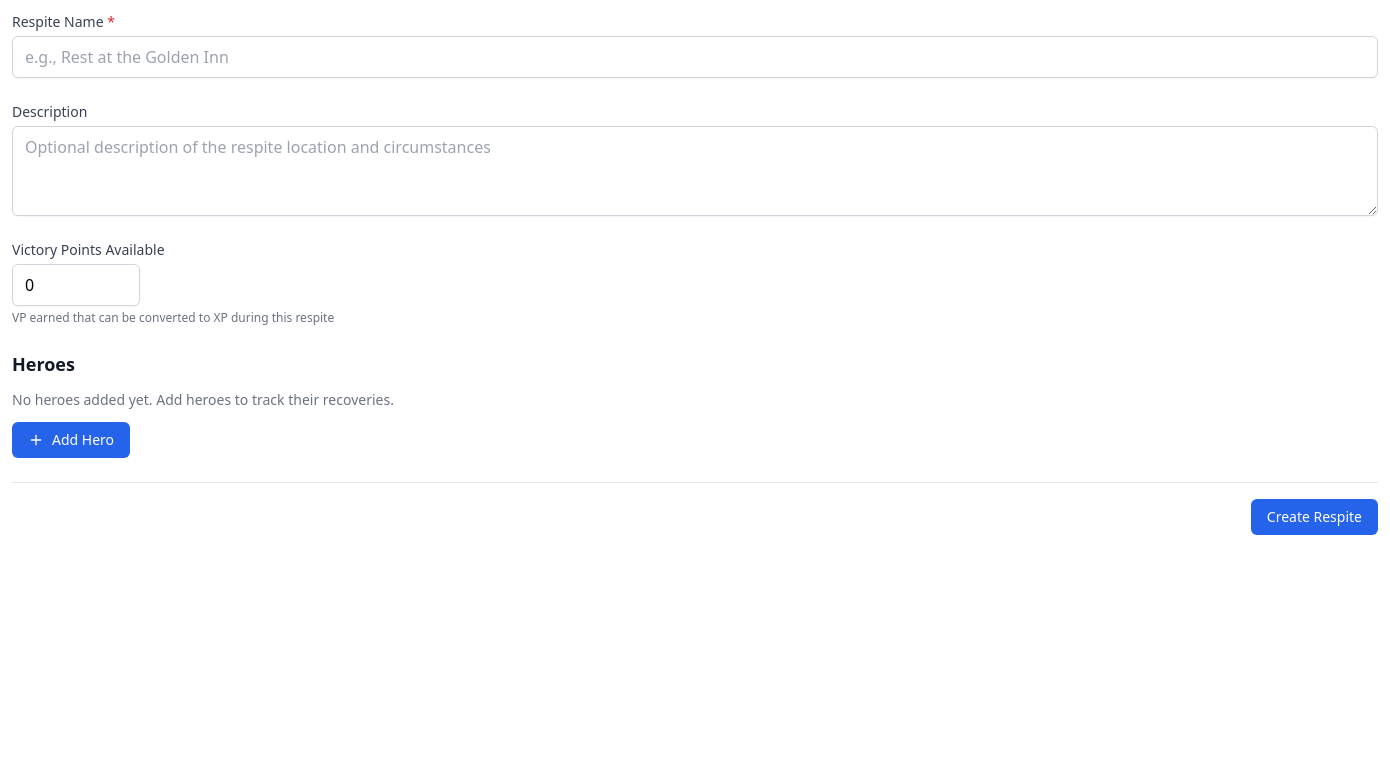
RespiteSetup - Hero Entry Mode Toggle › should show mode toggle for each hero entry independently
# Add first hero
Click the button "Add Hero": point(71, 440) 12,422 -> 130,458
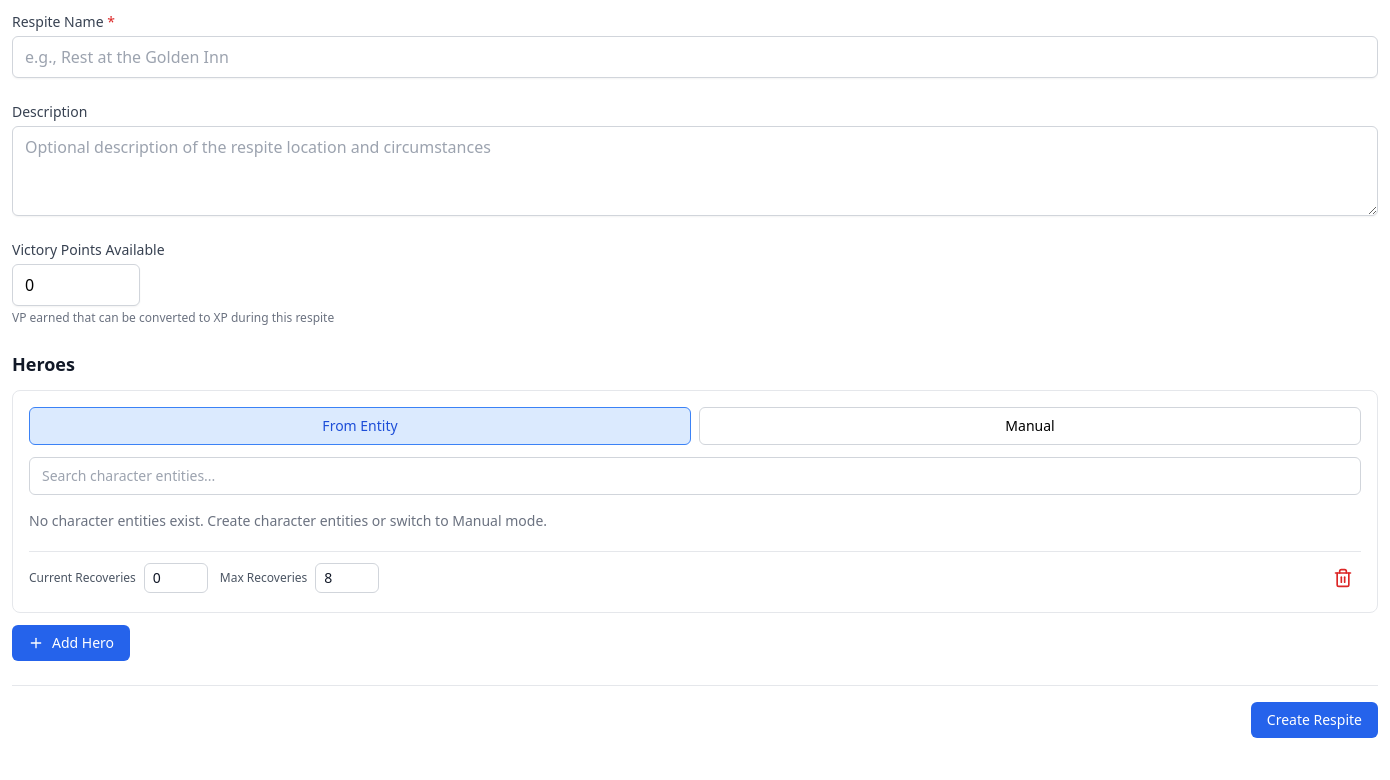
# Add second hero
Click the button "Add Hero": point(71, 643) 12,625 -> 130,661
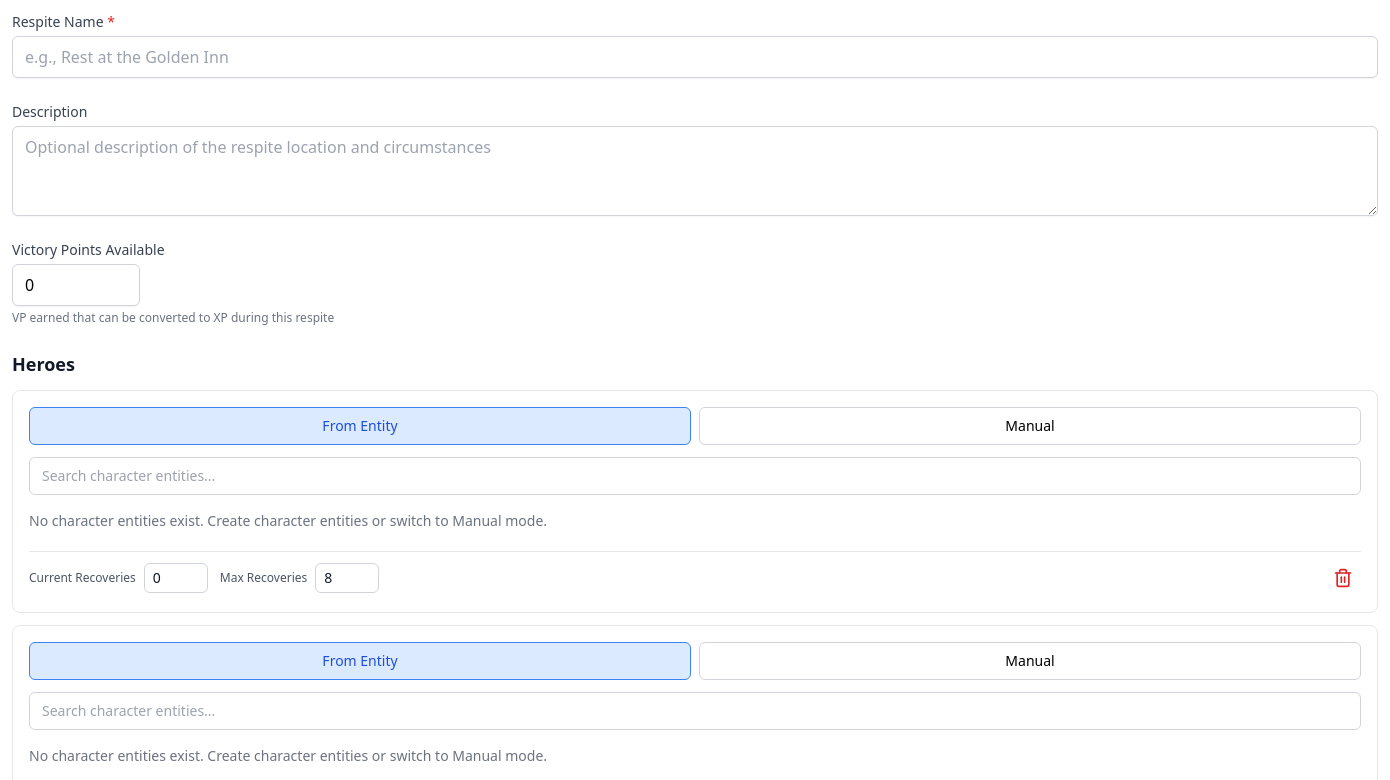
Check: the number of buttons "From Entity" is 2, box 29,407 -> 691,445; 29,642 -> 691,680
Check: the number of buttons "Manual" is 2, box 699,407 -> 1361,445; 699,642 -> 1361,680
